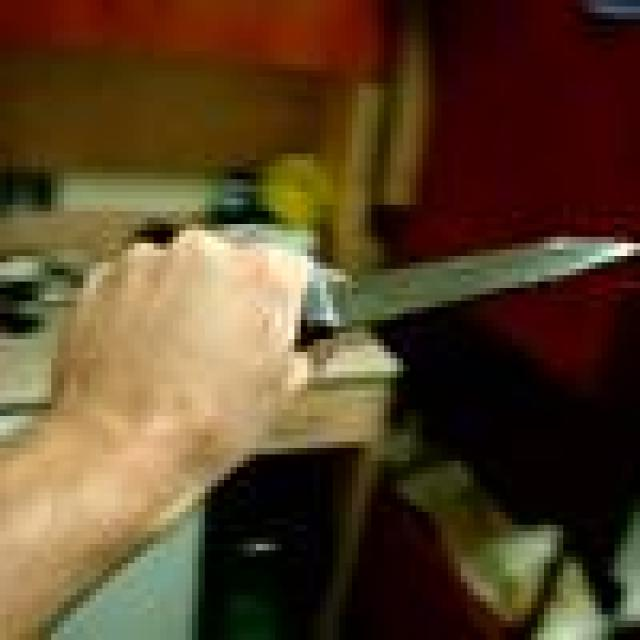Knife: (237, 186, 640, 384)
